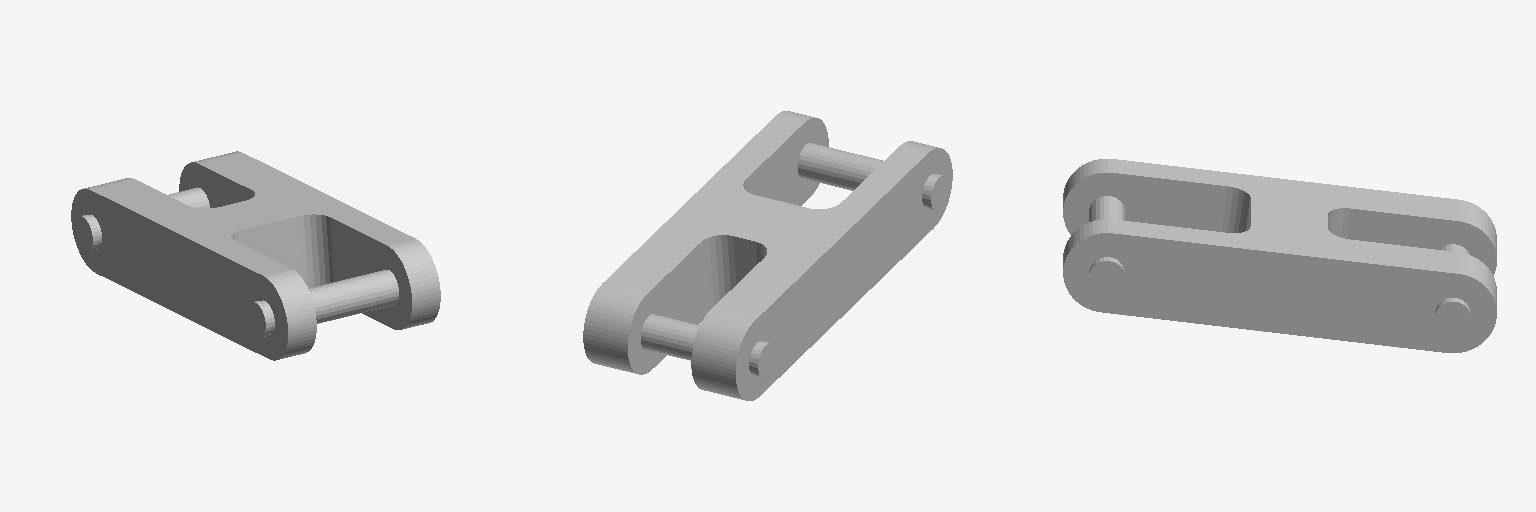
The model's file is robotiq_arg2f_85_outer_finger_vis.obj.
3 renders of one model, left to right at view 1: azimuth 30°, elevation 25°; view 2: azimuth 150°, elevation 25°; view 3: azimuth 270°, elevation 25°, orthographic.
Parts seen in each view (by area): view 1: Robotiq_Arg2F_85_Outer_Finger_Vis; view 2: Robotiq_Arg2F_85_Outer_Finger_Vis; view 3: Robotiq_Arg2F_85_Outer_Finger_Vis.
Boxes of the visible parts, x1=… form: Robotiq_Arg2F_85_Outer_Finger_Vis: x1=71, y1=151, x2=440, y2=360; Robotiq_Arg2F_85_Outer_Finger_Vis: x1=583, y1=111, x2=952, y2=400; Robotiq_Arg2F_85_Outer_Finger_Vis: x1=1063, y1=159, x2=1496, y2=352.
Bounding box in the file's own units: 27 × 18.11 × 59.12.